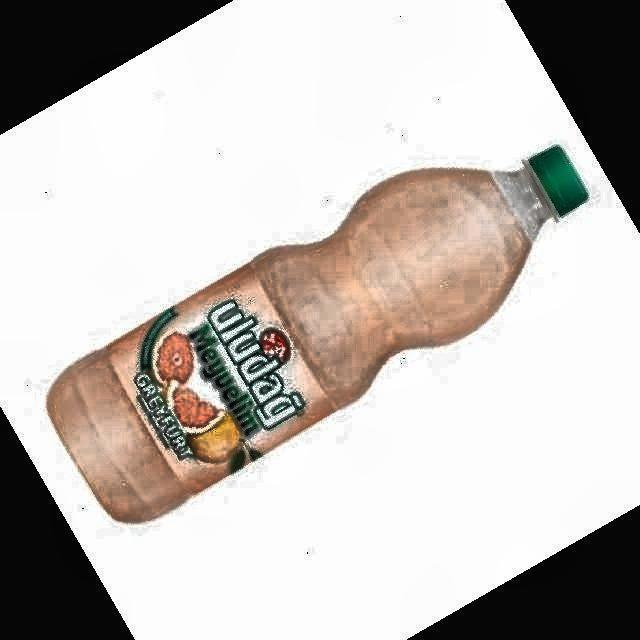plastic: (48, 146, 588, 521)
